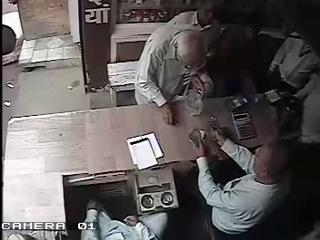Normal: (189, 122, 298, 240), (134, 0, 224, 109), (80, 199, 168, 240)
